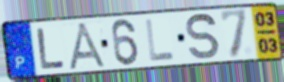6: (110, 18, 139, 68)
7: (219, 8, 250, 61)
A: (67, 21, 110, 71)
L: (144, 18, 176, 64), (34, 27, 67, 71)
S: (185, 12, 222, 62)
